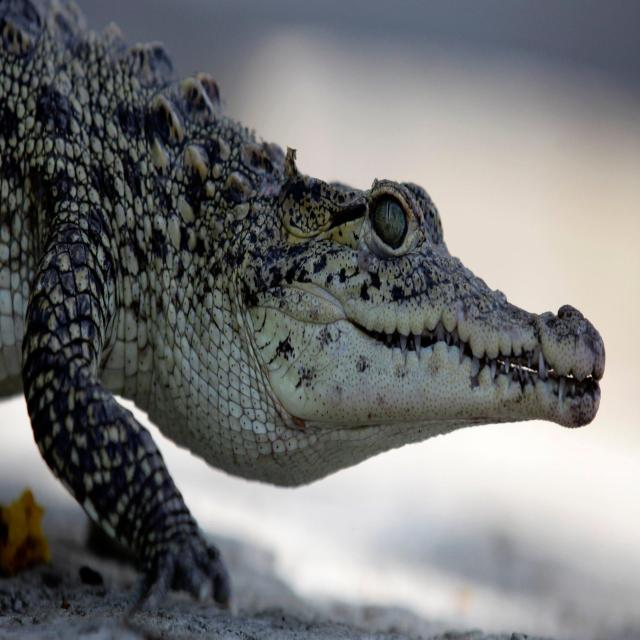crocodile: (0, 0, 635, 636)
